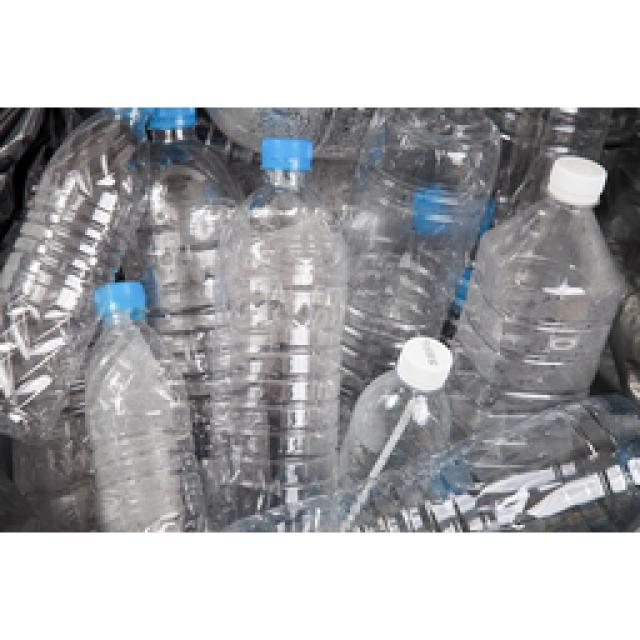plastic_water_bottles: (217, 133, 338, 510), (483, 150, 622, 383), (76, 275, 196, 523), (27, 106, 150, 276), (355, 334, 460, 464)
